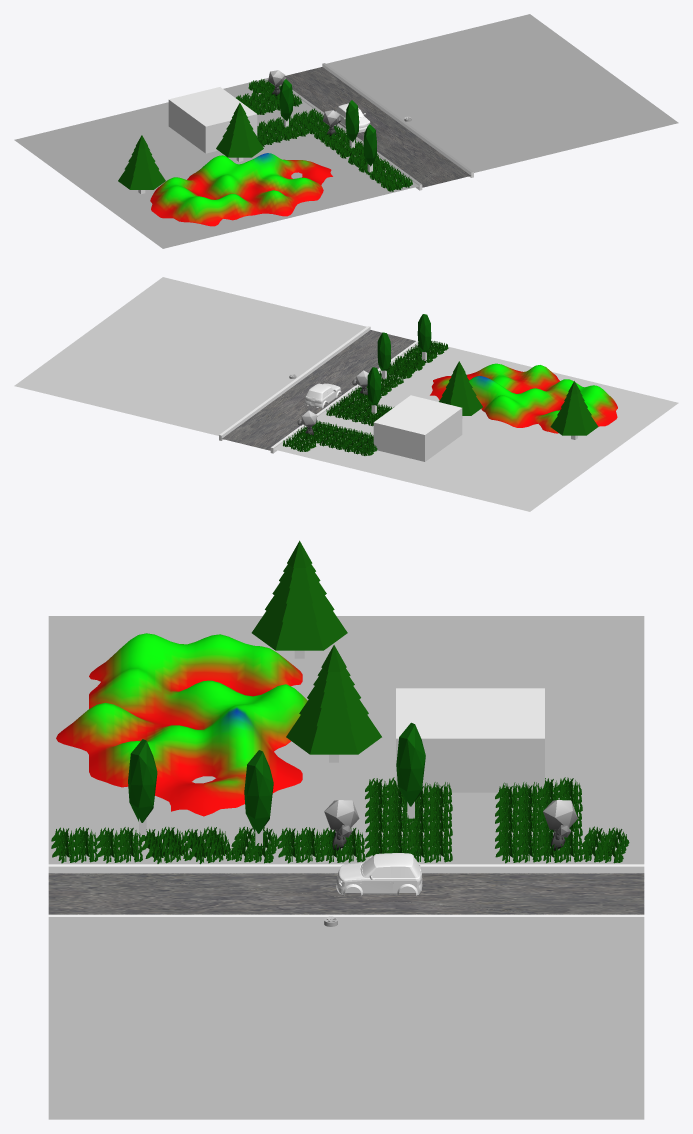
The model's file is Module_10_SM.FBX.
3 views of the same model, one above another, from view 1: azimuth 30°, elevation 25°; view 2: azimuth 150°, elevation 25°; view 3: azimuth 270°, elevation 25° (orthographic). The views are drawn at different scales.
Visible parts, largest first — view 1: Module_10_SM_LOD0; view 2: Module_10_SM_LOD0; view 3: Module_10_SM_LOD0.
Part boxes in pixels (x1,y1,x2,y2): Module_10_SM_LOD0: (14,14,678,248); Module_10_SM_LOD0: (14,277,678,511); Module_10_SM_LOD0: (48,540,644,1119).
Size of the model in its own units: 10000 by 5000 by 1155.
